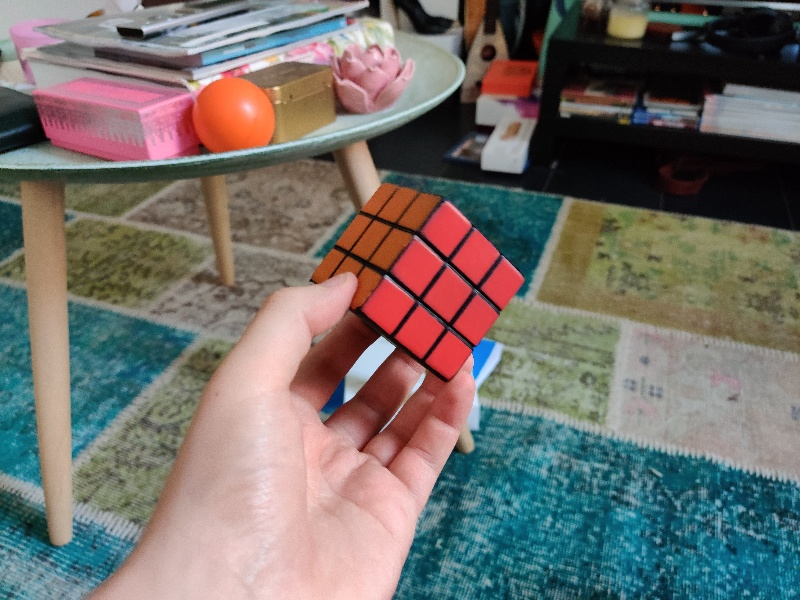rubik: (310, 182, 526, 383)
